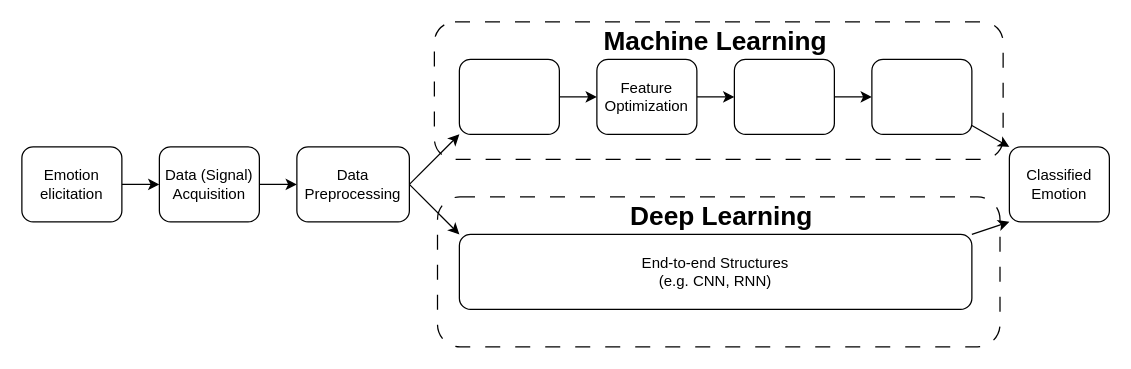
The diagram is 1131 pixels wide and 369 high, and some of its shapes have lost their labels. Each missing label, with the centre of its shape:
"Classifier (e.g. KNN, SVM, RF)" belongs at pixel 921 96.
"Feature Extraction" belongs at pixel 508 96.
"Feature Fusion" belongs at pixel 783 96.
